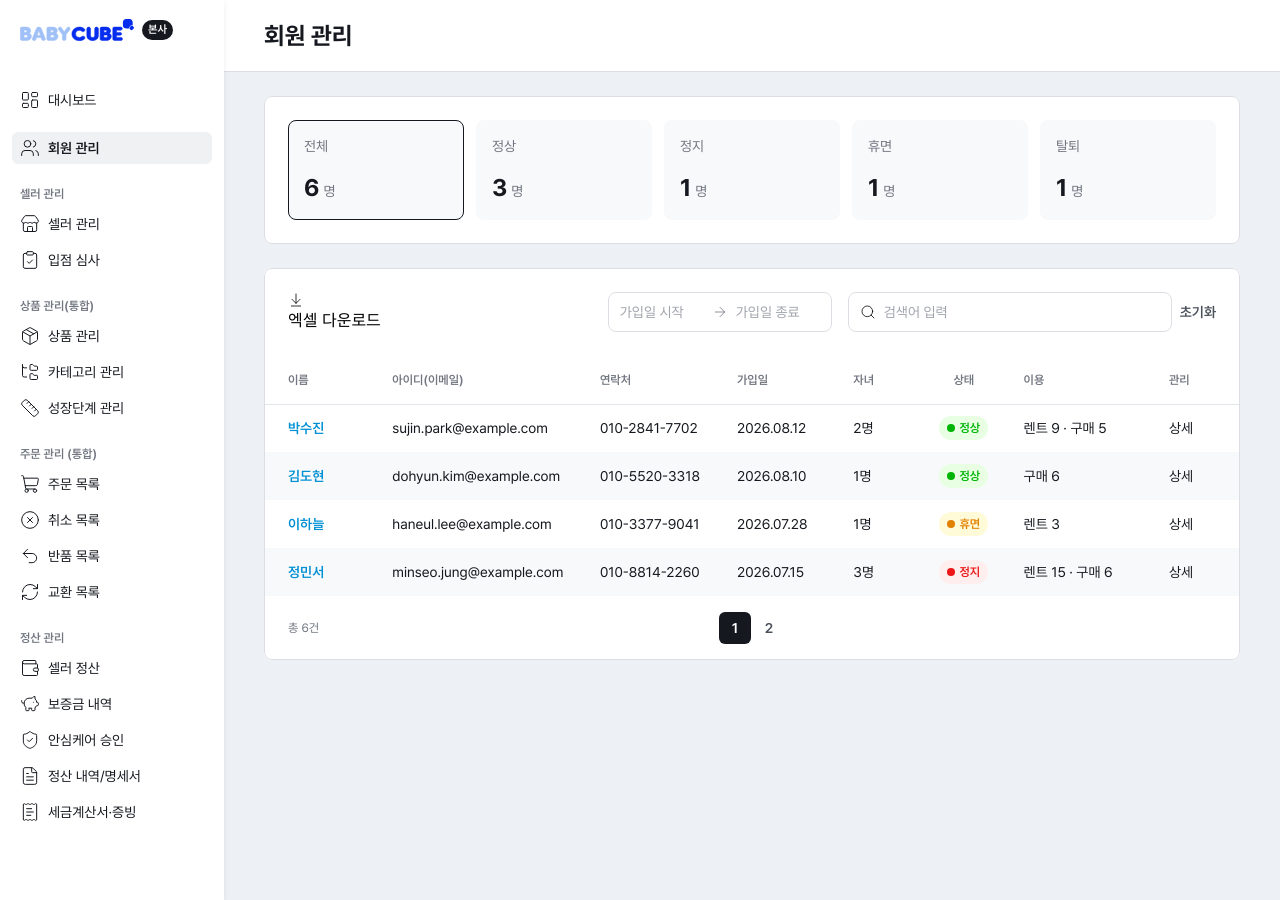
it: MemberListPage (S02 회원 관리) › 상태 대시 — 원본 StatDash › 대시 상자가 곧 상태 필터다 — 누르면 목록이 그 상태로 좁혀진다
Click the button with aria-label "정상 3명".
click(564, 170)  # box [476,120,652,220]
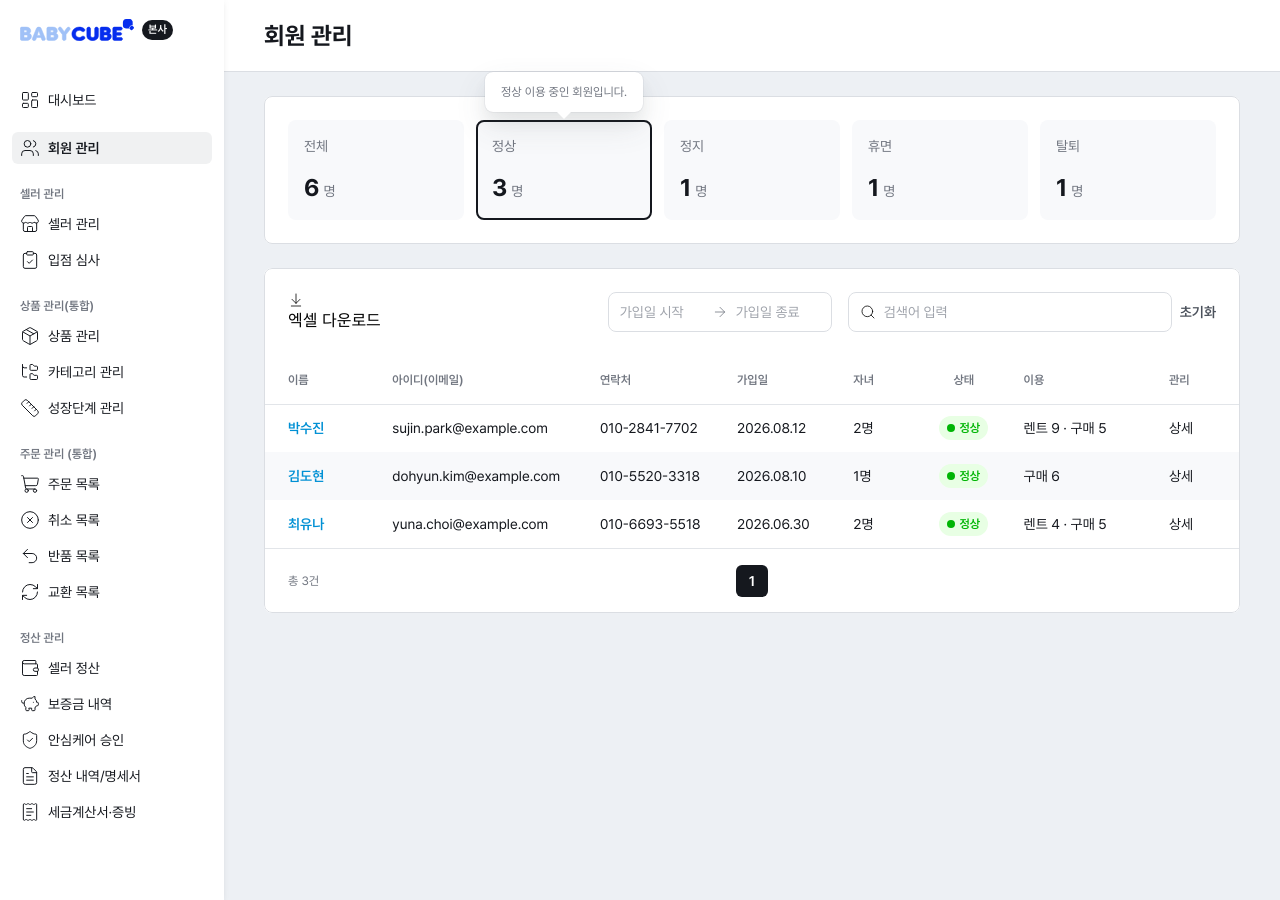
Expected: the text "총 3건" is shown, [288,572,319,588]
